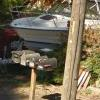Boat: (7, 9, 68, 56)
